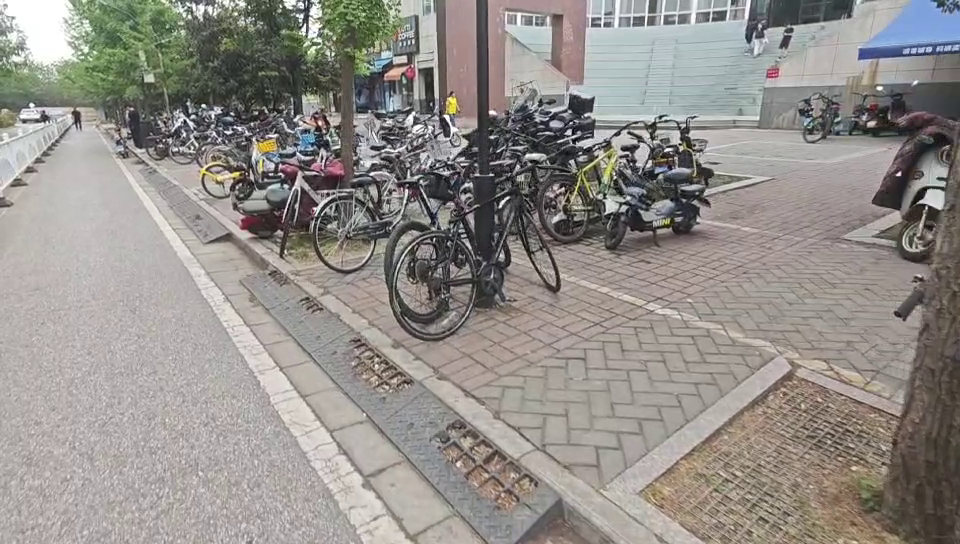others: (397, 161, 578, 334), (613, 130, 724, 247), (324, 161, 436, 268), (897, 123, 951, 264), (265, 150, 331, 257)
shared_bike_haluo: (264, 121, 322, 160)
shared_bike_meituan: (203, 137, 285, 202)
